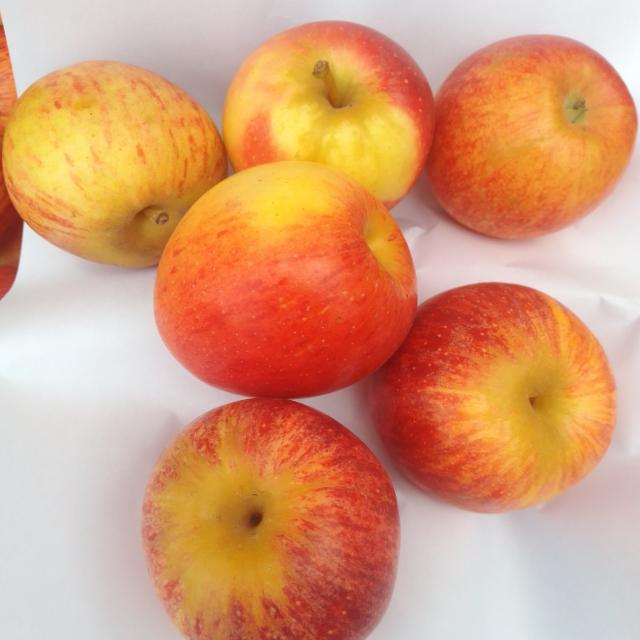apple: (142, 399, 399, 639), (155, 161, 416, 397), (370, 283, 616, 512), (3, 61, 226, 266), (426, 36, 637, 238), (223, 21, 434, 208), (0, 19, 17, 145)
